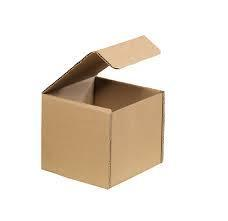box: (41, 35, 165, 191)
